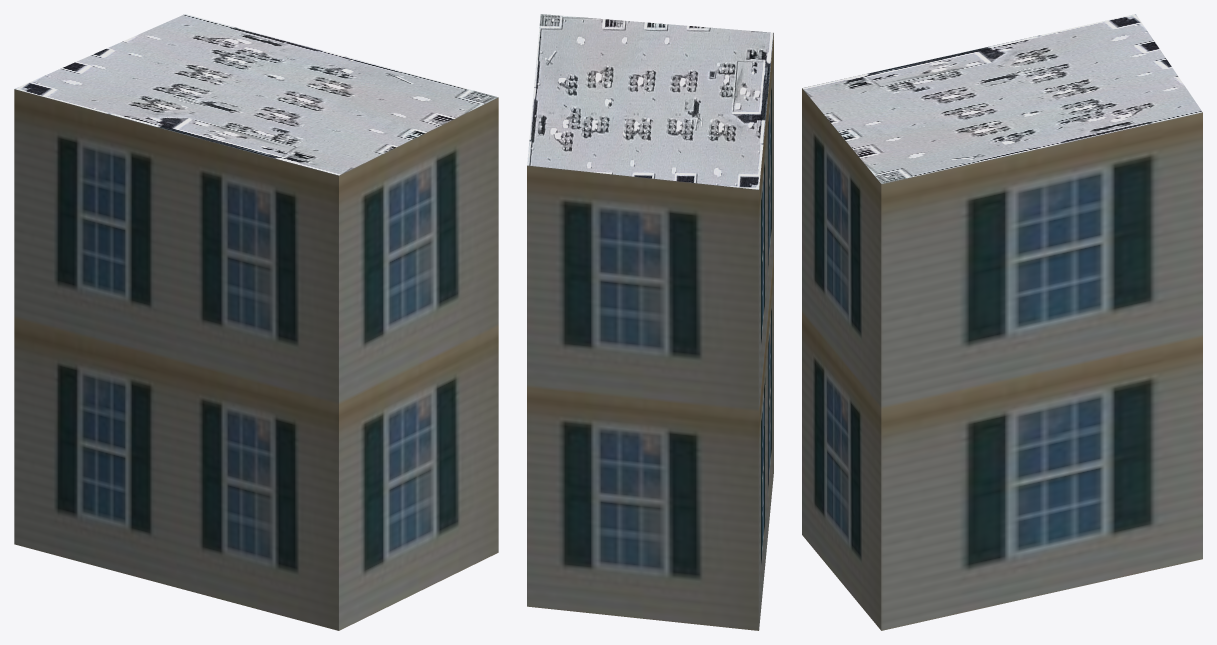
File: ResTex__3522.fbx
3 renders of one model, left to right at view 1: azimuth 30°, elevation 25°; view 2: azimuth 150°, elevation 25°; view 3: azimuth 270°, elevation 25°, orthographic. The views are drawn at different scales.
Visible parts, largest first — view 1: CityEngineMaterial_7_m, CityEngineMaterial_8_m; view 2: CityEngineMaterial_7_m, CityEngineMaterial_8_m; view 3: CityEngineMaterial_7_m, CityEngineMaterial_8_m.
Part boxes in pixels (bbox=[...]): CityEngineMaterial_7_m: bbox=[14, 89, 498, 630]; CityEngineMaterial_8_m: bbox=[15, 14, 498, 175]; CityEngineMaterial_7_m: bbox=[527, 33, 773, 630]; CityEngineMaterial_8_m: bbox=[527, 14, 773, 189]; CityEngineMaterial_7_m: bbox=[802, 88, 1202, 630]; CityEngineMaterial_8_m: bbox=[802, 14, 1202, 183].
Size of the model in its own units: 4.9 by 6 by 4.88.
2 materials, 2 textured.
